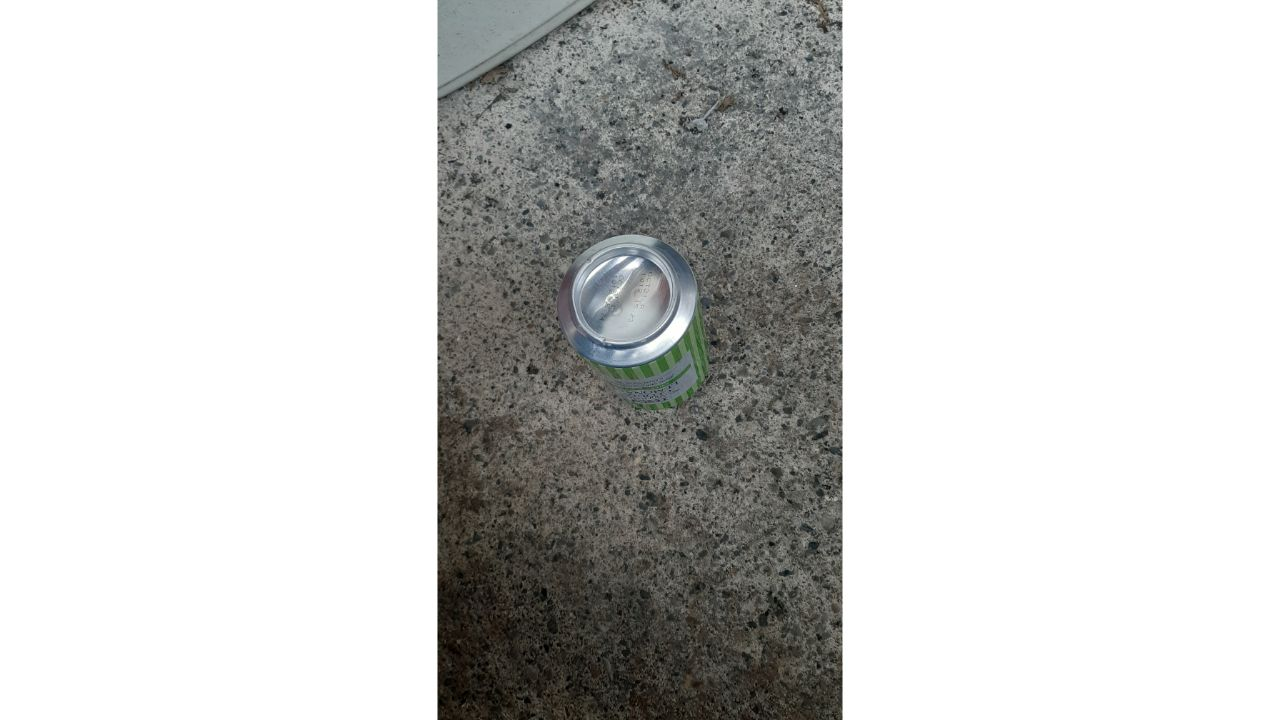Can: (548, 220, 727, 433)
